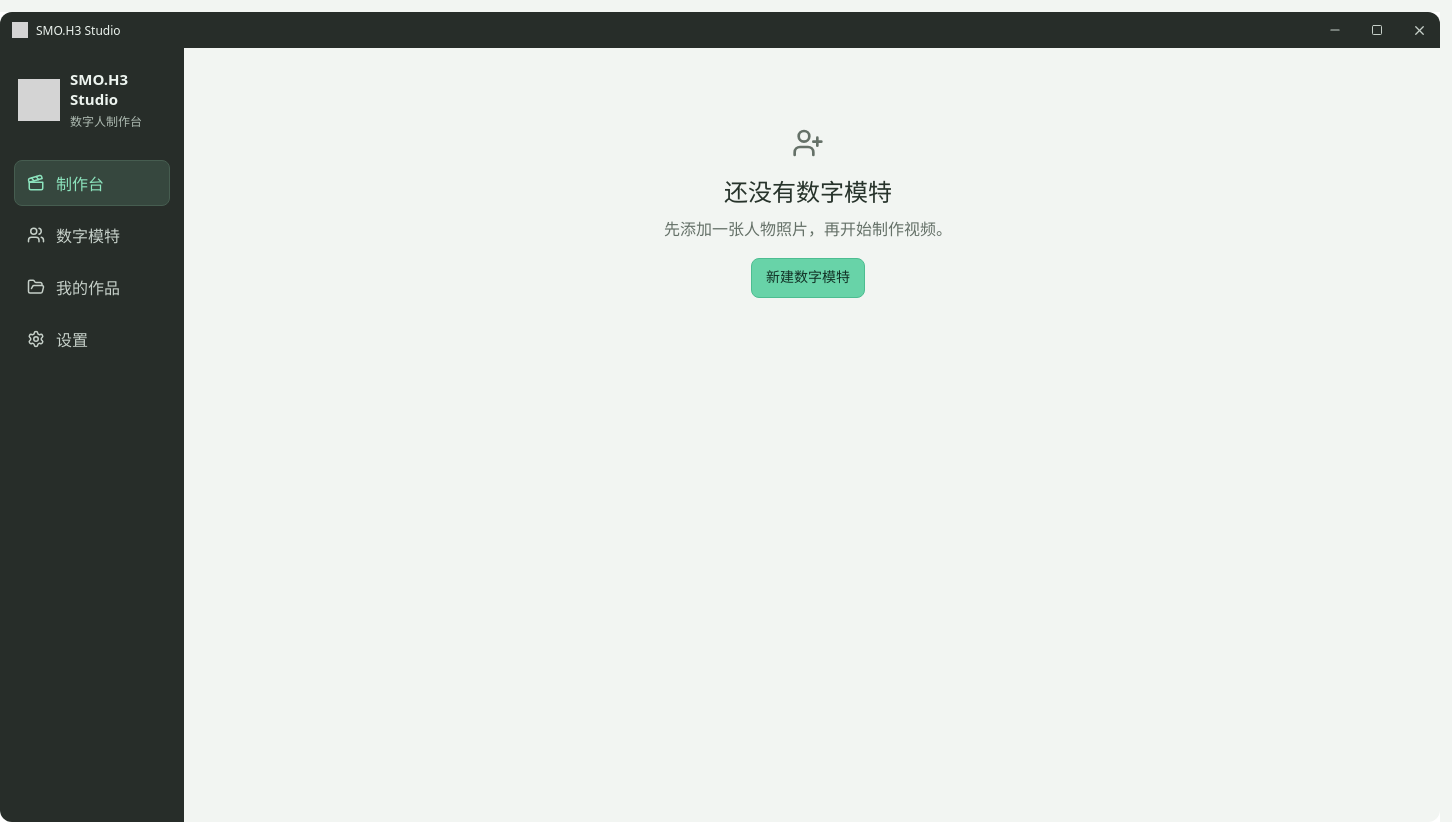
Test: SMO.H3 Studio navigation and avatars › offers a real creation entry when no avatar exists
What coordinates should you click on to do the following:
click the button "新建数字模特"
I would click on:
 (808, 278)
Its box is [751,258,865,298].
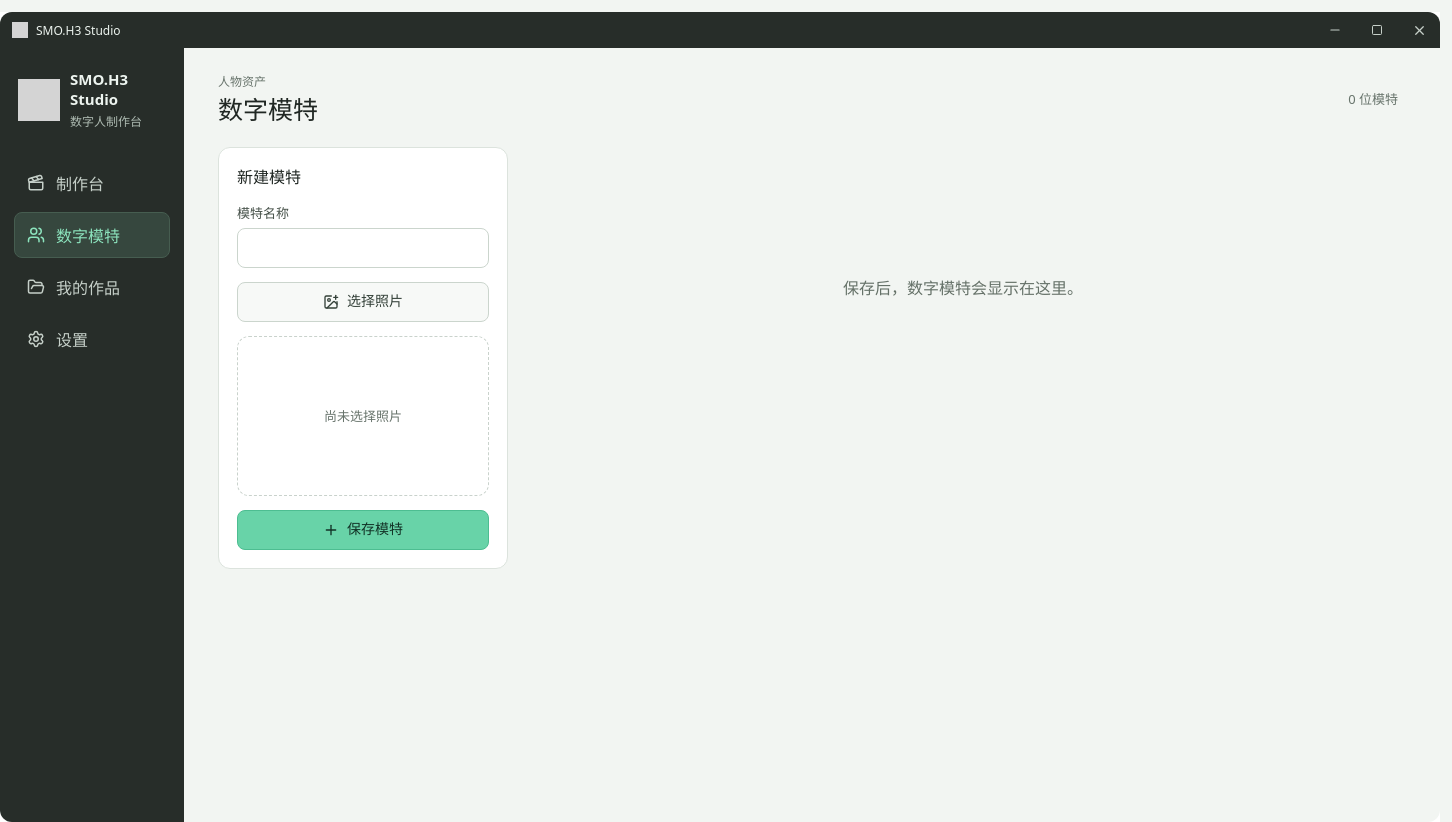
Check: the heading "数字模特" is shown, box [218,94,318,125]
Check: the field labelled "模特名称" is shown, box [237,228,489,268]
